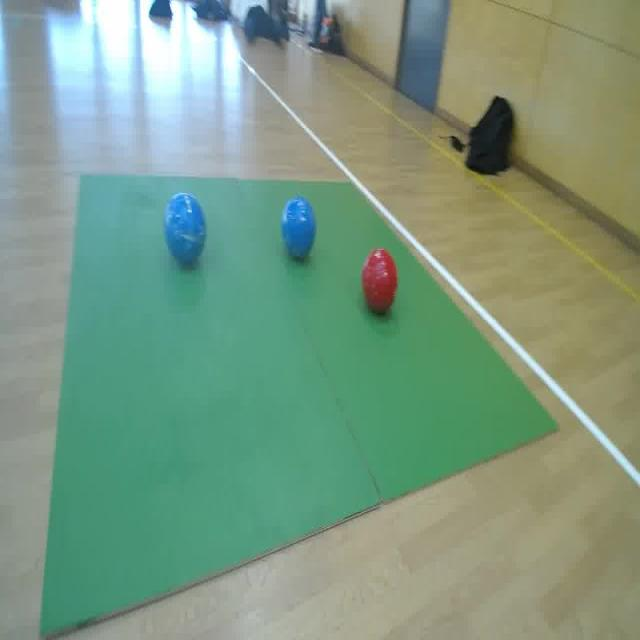blue_ball: (164, 188, 210, 264), (279, 197, 317, 265)
red_ball: (360, 244, 401, 318)
